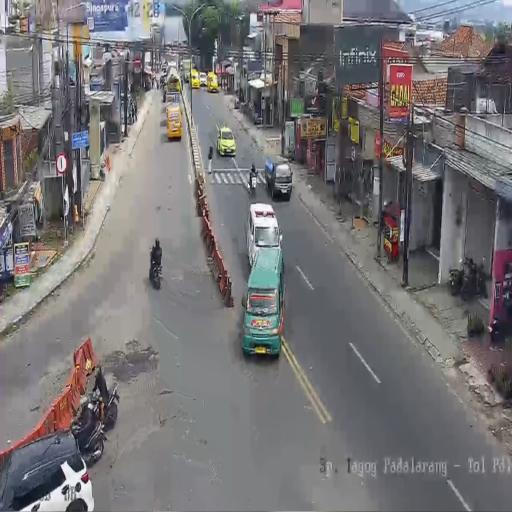3: (166, 103, 183, 139), (166, 68, 181, 94), (182, 59, 192, 82), (144, 50, 151, 72)
car: (0, 435, 95, 511), (246, 201, 281, 270), (264, 156, 293, 200), (216, 125, 235, 156), (206, 71, 219, 93), (191, 69, 200, 89), (199, 72, 207, 87)
truck: (149, 253, 163, 289), (160, 74, 166, 89)
